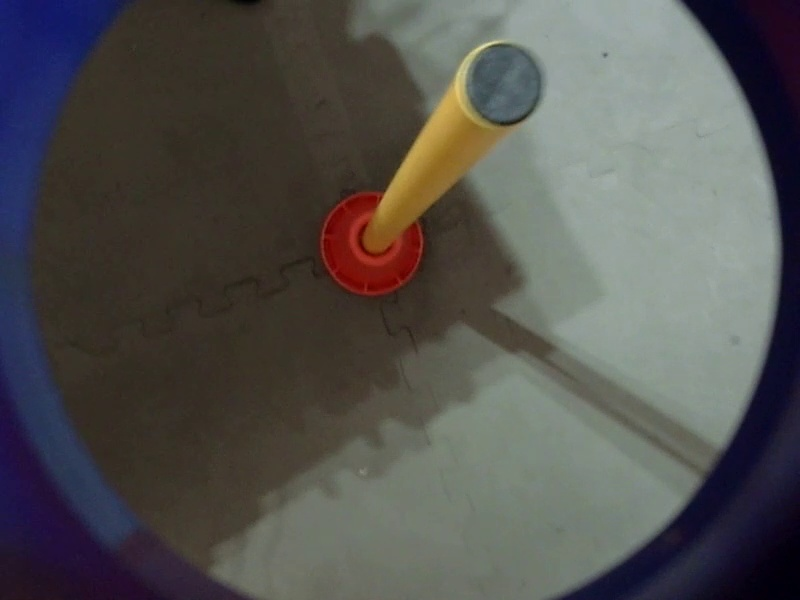tip: (447, 39, 550, 140)
